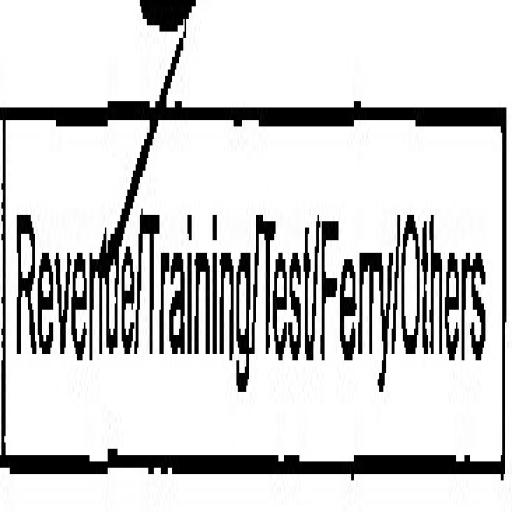check: (0, 57, 145, 512)
